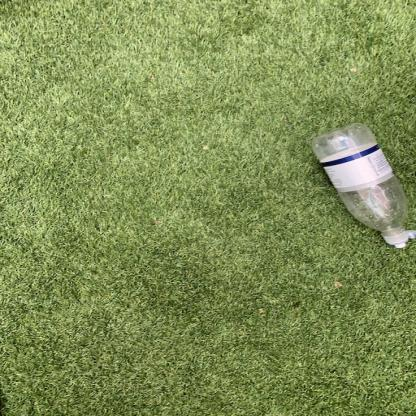trash: (307, 124, 416, 250)
